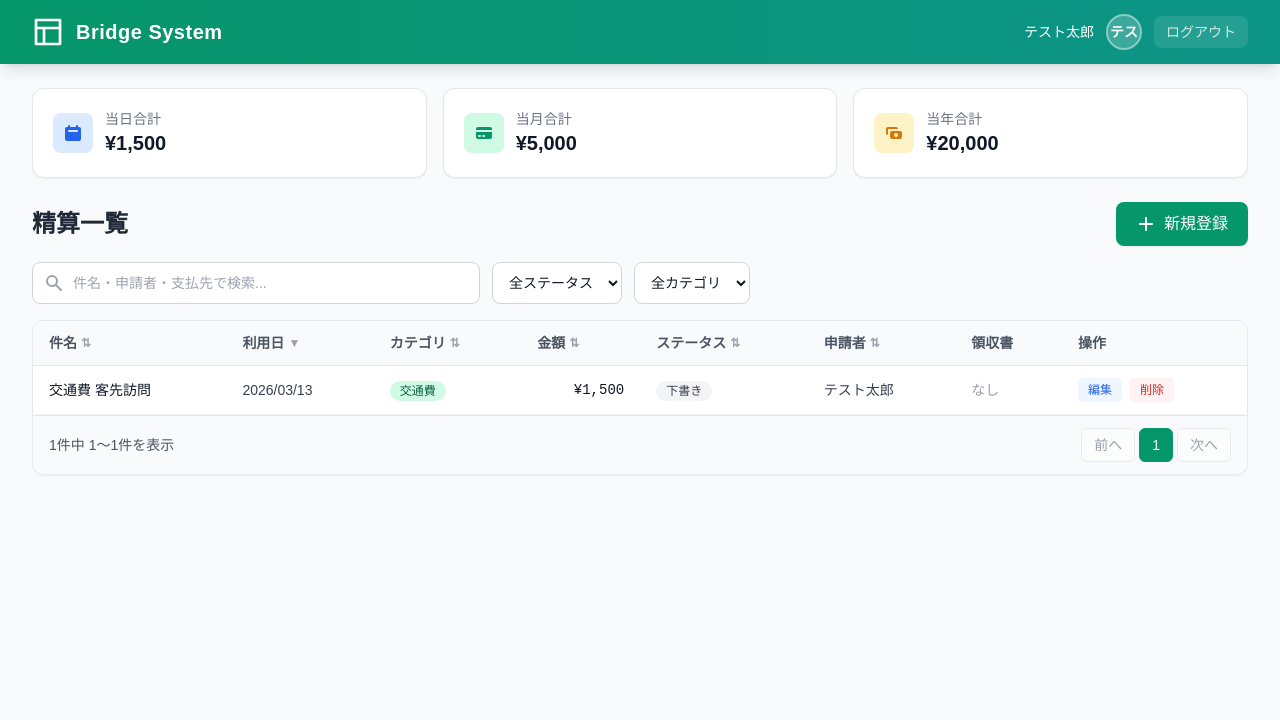
Scenario: ExpenseList › 編集モーダル › 編集ボタンをクリックすると編集モーダルが開く
Click the button "編集" at (1100, 390), box [1078,378,1122,402]
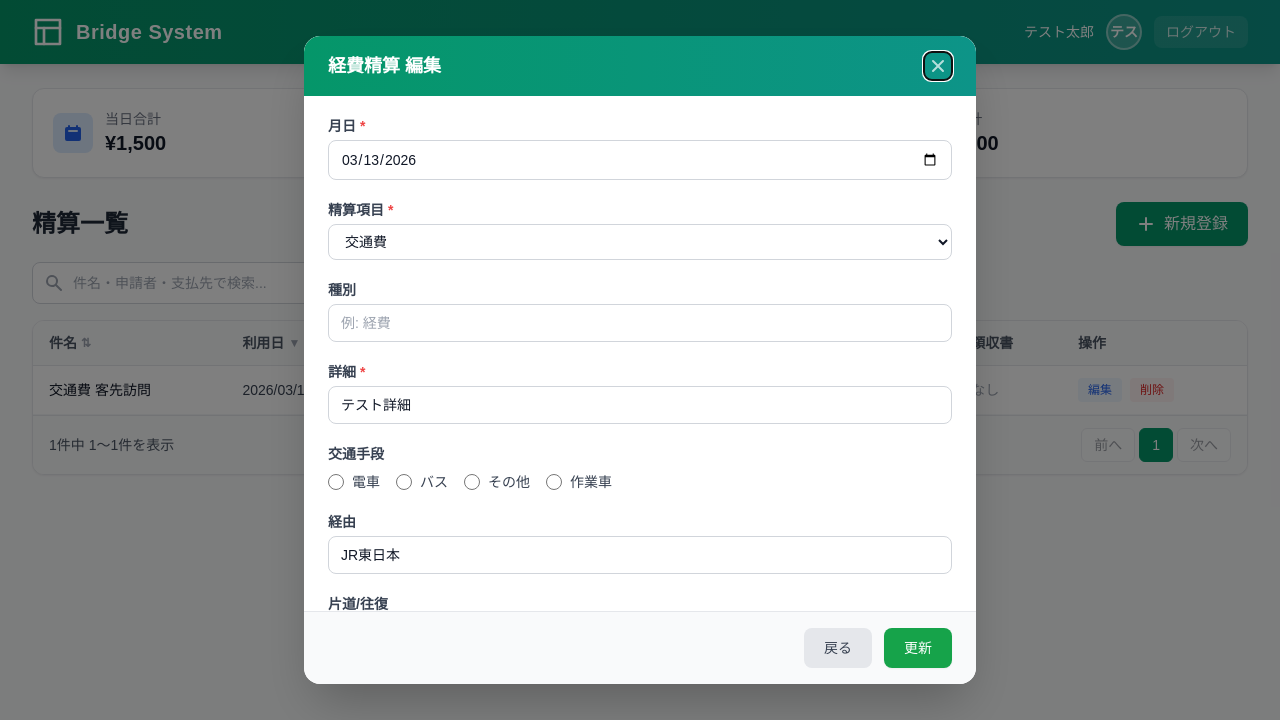
Expected: the heading "経費精算 編集" is shown, [328,52,441,80]
